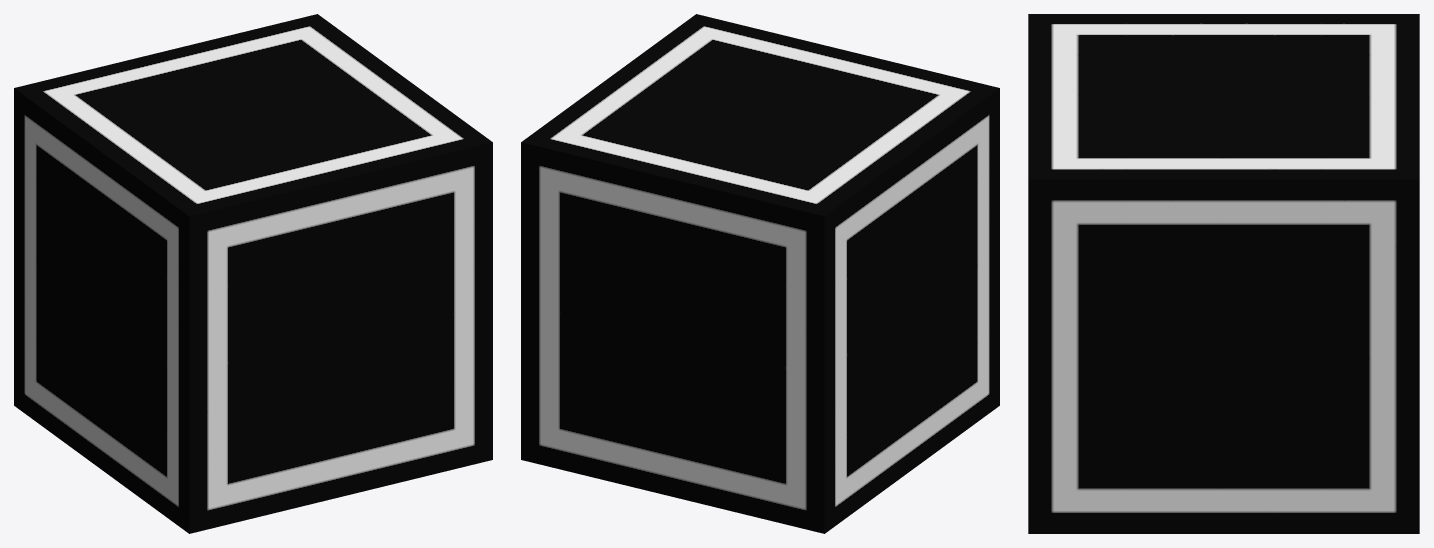
Rendered from 9Sliced.fbx.
The picture shows the model from 3 angles, left to right: view 1: azimuth 30°, elevation 25°; view 2: azimuth 150°, elevation 25°; view 3: azimuth 270°, elevation 25°; orthographic projection. The views are drawn at different scales.
Parts seen in each view (by area): view 1: Cube; view 2: Cube; view 3: Cube.
Boxes of the visible parts, left/top/right/bottom form: Cube: left=14, top=14, right=492, bottom=533; Cube: left=521, top=14, right=999, bottom=533; Cube: left=1028, top=14, right=1419, bottom=533.
Bounding box in the file's own units: 2 × 2 × 2.
